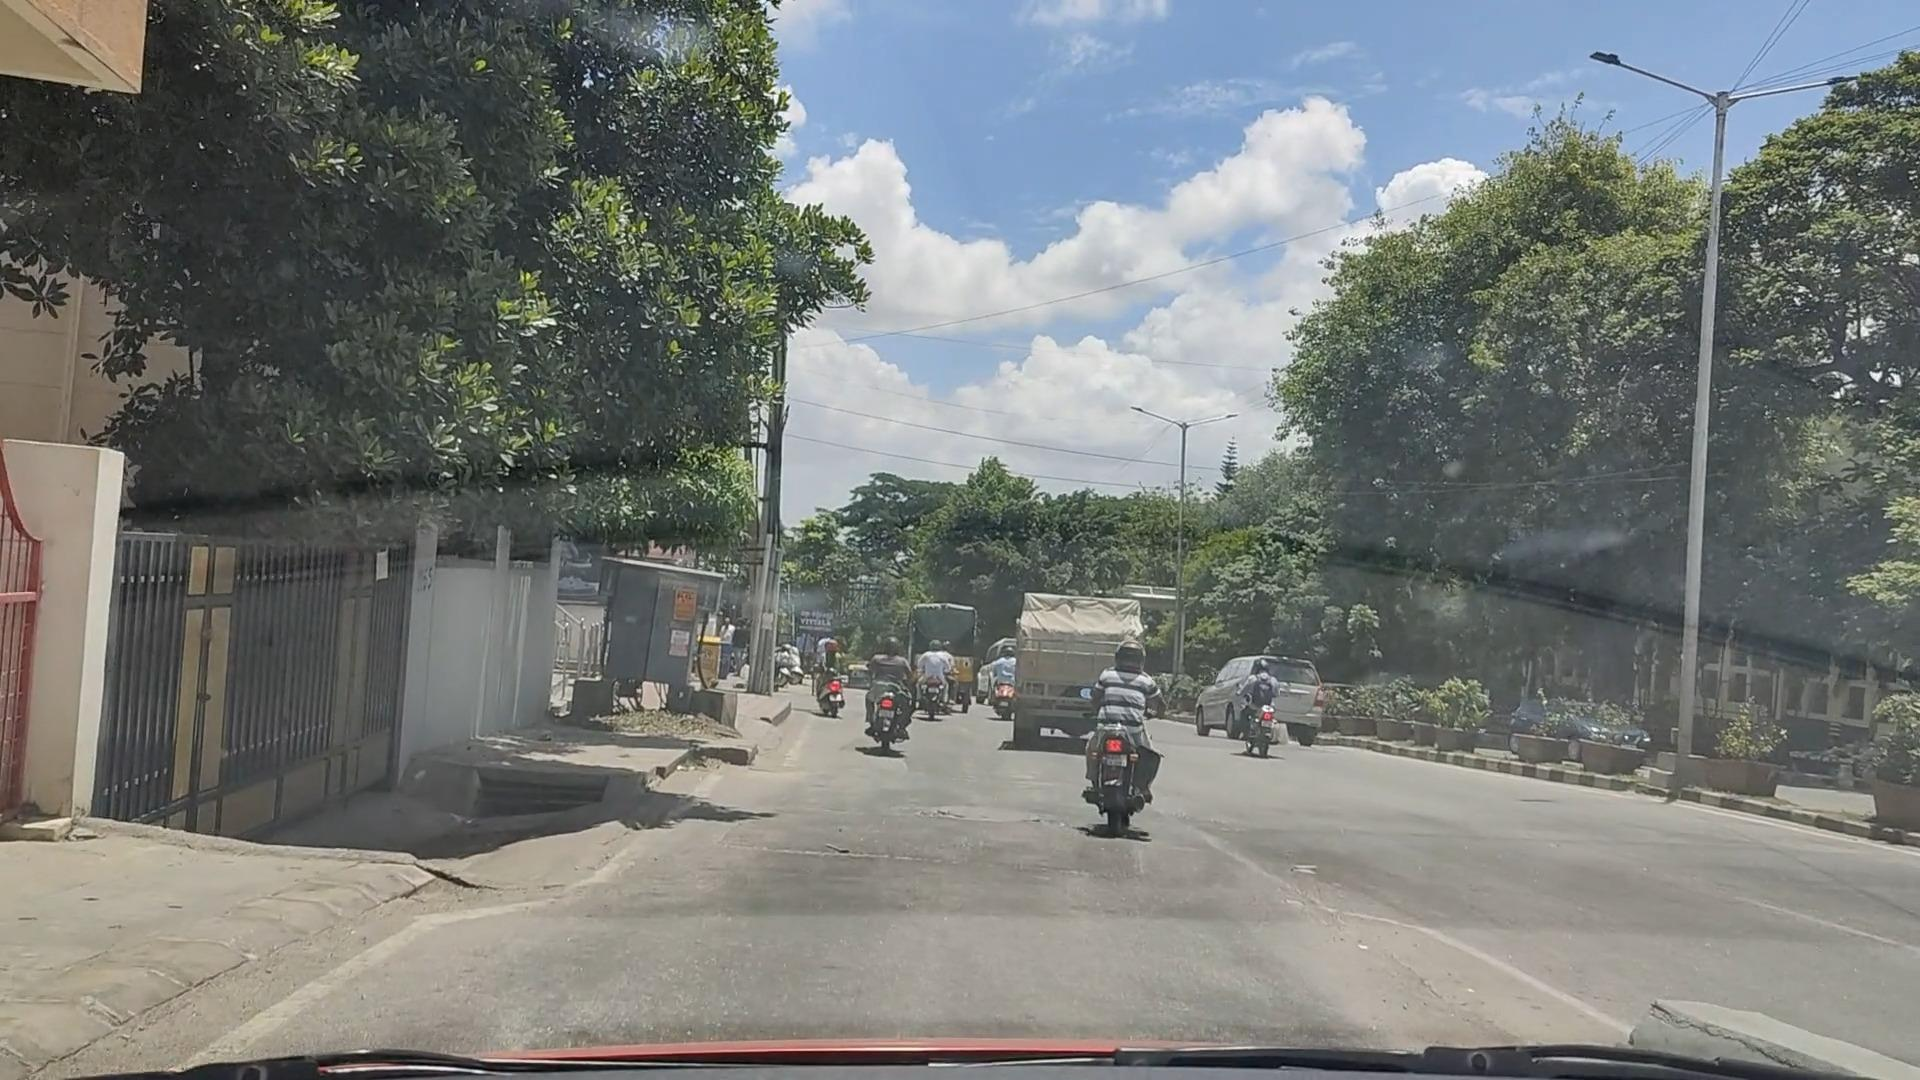HMV: (986, 574, 1151, 748), (909, 588, 990, 716)
RoadDamages: (898, 773, 1075, 849)
